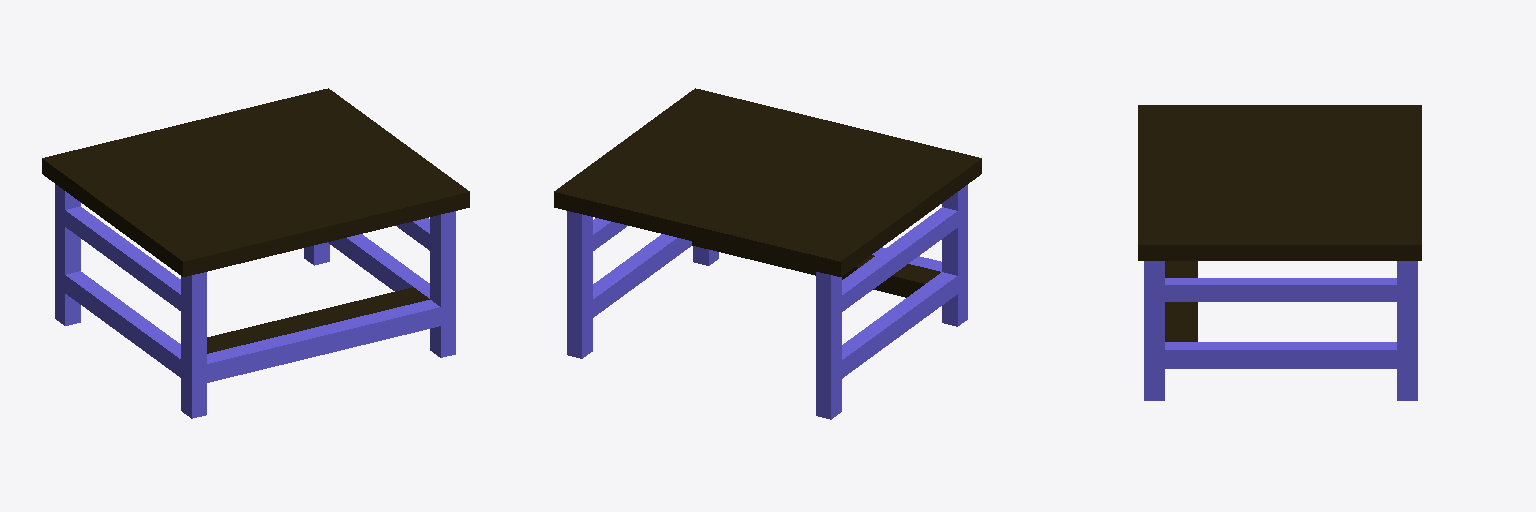
The model's file is Desk_Retex.obj.
3 renders of one model, left to right at view 1: azimuth 30°, elevation 25°; view 2: azimuth 150°, elevation 25°; view 3: azimuth 270°, elevation 25°, orthographic.
Visible parts, largest first — view 1: Desktop1; view 2: Desktop1; view 3: Desktop1.
Part boxes in pixels (left/top/right/bottom): Desktop1: left=42, top=88, right=469, bottom=418; Desktop1: left=554, top=88, right=981, bottom=419; Desktop1: left=1138, top=105, right=1421, bottom=400.
Bounding box in the file's own units: 7.91 × 4.27 × 6.76.